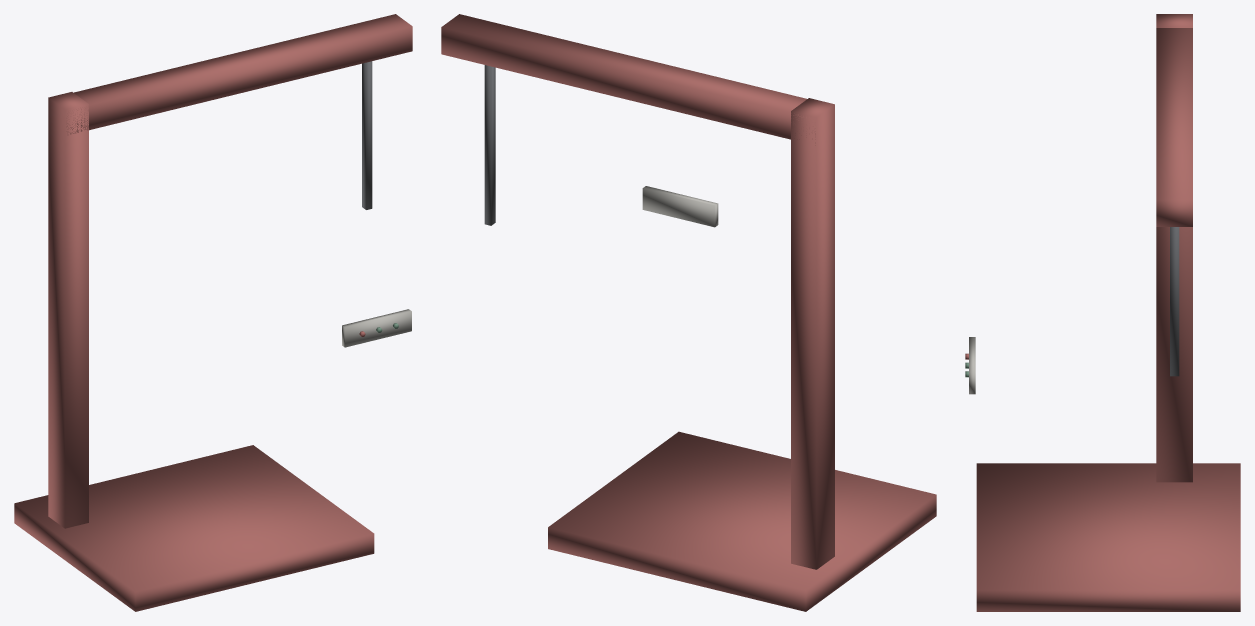
File: chain_hoist__deep.glb
The picture shows the model from 3 angles, left to right: view 1: azimuth 30°, elevation 25°; view 2: azimuth 150°, elevation 25°; view 3: azimuth 270°, elevation 25°; orthographic projection. The views are drawn at different scales.
Visible parts, largest first — view 1: world; view 2: world; view 3: world.
Boxes of the visible parts, box(x1,y1,x2,y2) form: world: box(14, 14, 412, 611); world: box(441, 14, 936, 611); world: box(965, 14, 1240, 611).
Size of the model in its own units: 1.5 by 1.75 by 0.9162.
